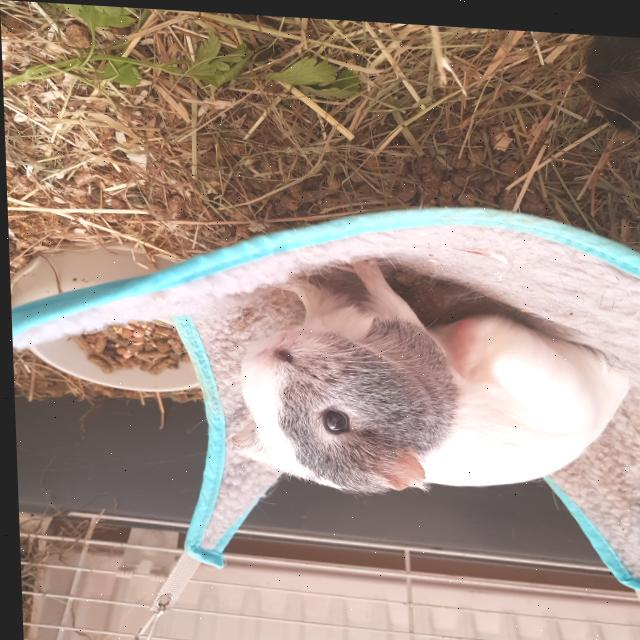guinea pig: (224, 243, 640, 506)
